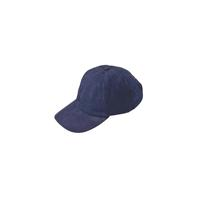hat: (54, 64, 144, 132)
